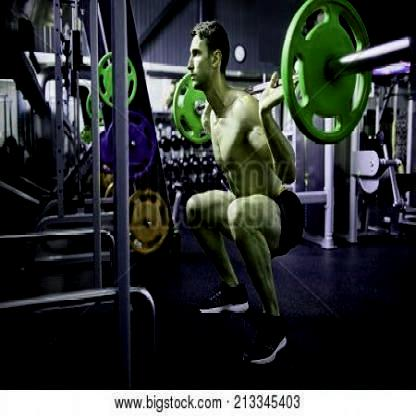Barbell: (398, 28, 416, 65)
